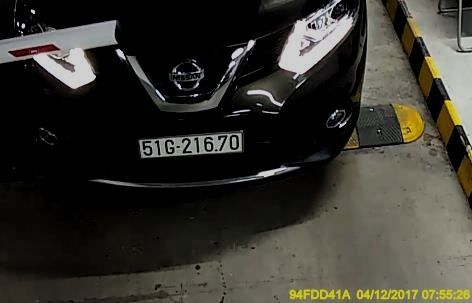plate: (135, 131, 246, 159)
